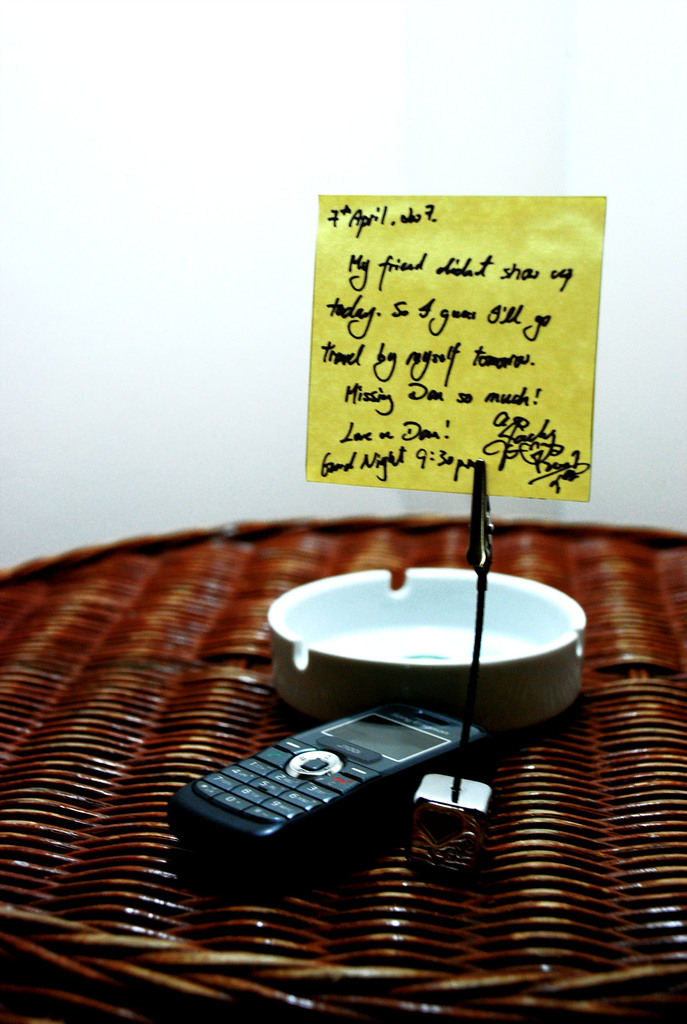mobile phone: (175, 688, 517, 880)
